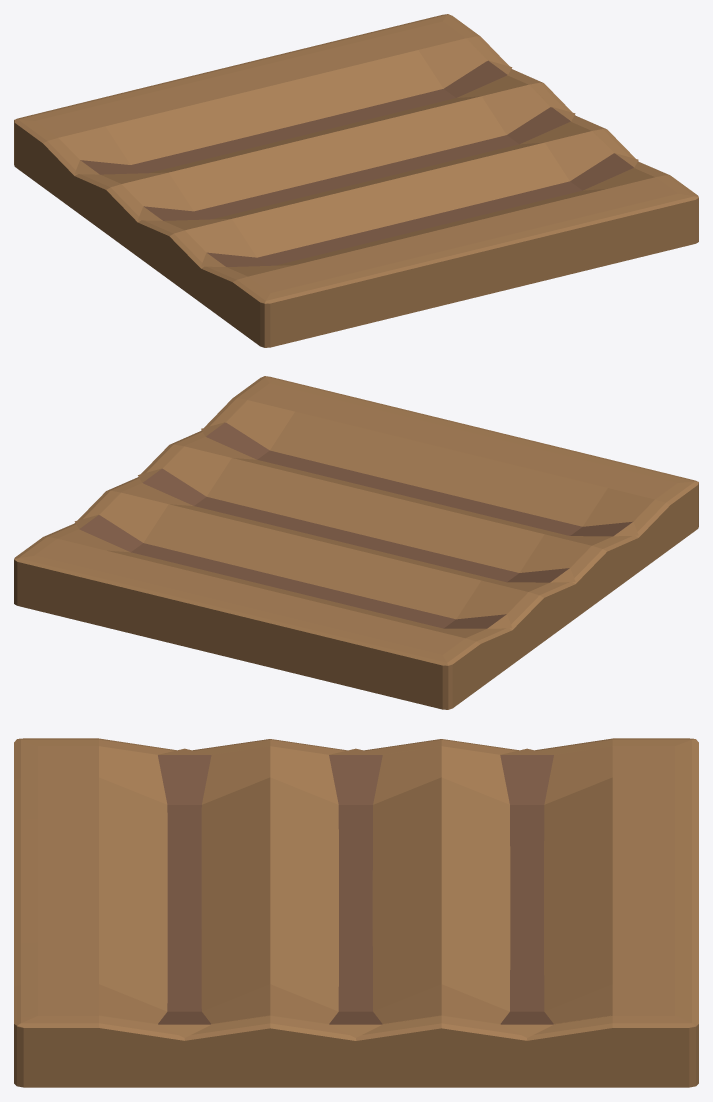
File: T1FarmV1.fbx
3 views of the same model, one above another, from view 1: azimuth 30°, elevation 25°; view 2: azimuth 150°, elevation 25°; view 3: azimuth 270°, elevation 25° (orthographic). The views are drawn at different scales.
Parts seen in each view (by area): view 1: Cube; view 2: Cube; view 3: Cube.
Part boxes in pixels (x1,y1,x2,y2): Cube: [14, 14, 698, 347]; Cube: [14, 376, 698, 709]; Cube: [14, 738, 698, 1087].
Size of the model in its own units: 2 by 0.2 by 2.
